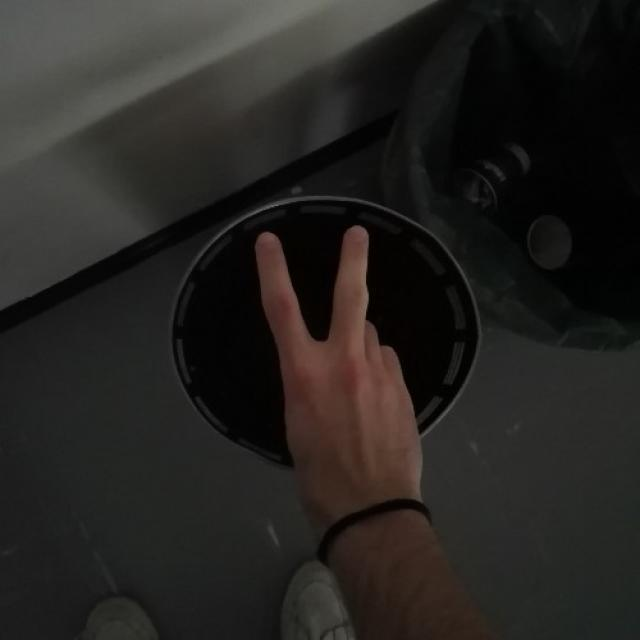scissors: (251, 224, 422, 502)
